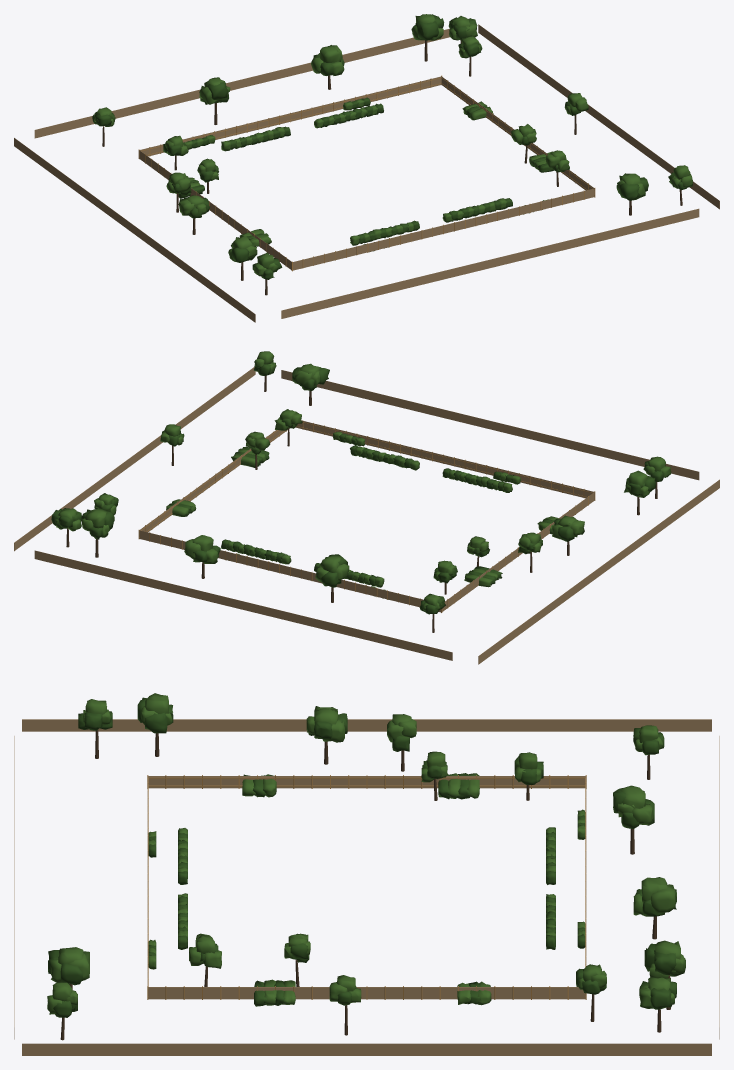
File: cg-surround.glb
3 views of the same model, one above another, from view 1: azimuth 30°, elevation 25°; view 2: azimuth 150°, elevation 25°; view 3: azimuth 270°, elevation 25° (orthographic). The views are drawn at different scales.
Parts seen in each view (by area): view 1: cg-surround; view 2: cg-surround; view 3: cg-surround.
Part boxes in pixels (left/top/right/bottom): cg-surround: left=14, top=14, right=719, bottom=322; cg-surround: left=14, top=351, right=719, bottom=664; cg-surround: left=14, top=693, right=719, bottom=1055.
Bounding box in the file's own units: 100 × 9.27 × 92.05.
